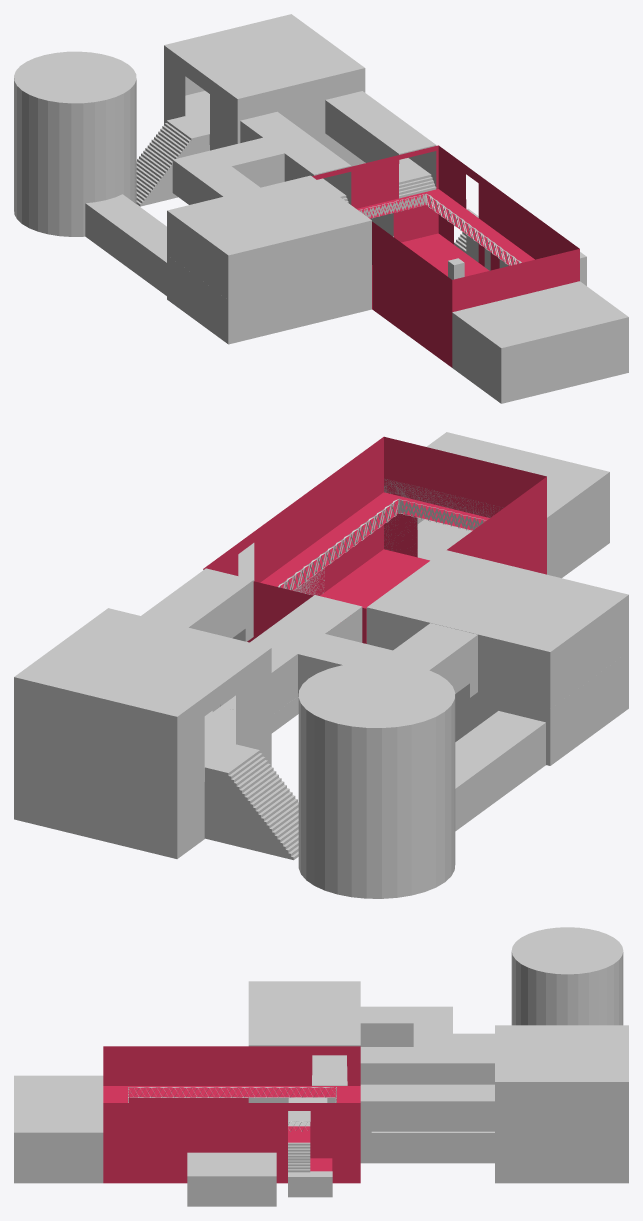
Rendered from scenario.fbx.
3 renders of one model, top to bottom at view 1: azimuth 30°, elevation 25°; view 2: azimuth 150°, elevation 25°; view 3: azimuth 270°, elevation 25°, orthographic. The views are drawn at different scales.
Visible parts, largest first — view 1: Central, Cylinder, Hab.debajo.001, Hall.001, Hab Admin, Hab.debajo, Pasillo.002, Pasillo.001, Pasillo.003, Pasillo.005, Hall, Cube.012 (+1 smaller); view 2: Cylinder, Central, Hall.001, Hab.debajo.001, Hall, Hab Admin, Pasillo.001, Hab.debajo, Pasillo.003, Pasillo.002, Pasillo.004, Pasillo.005 (+3 smaller); view 3: Central, Hall.001, Cylinder, Hab Admin, Hab.debajo.001, Hall, Pasillo.002, Pasillo.003, Hab ini, Pasillo, Pasillo.004, Pasillo.005 (+3 smaller).
Boxes of the visible parts, x1,y1,x2,y2 form: Central: (312,145,579,367); Cylinder: (14,51,136,236); Hab.debajo.001: (167,175,371,299); Hall.001: (164,14,365,146); Hab Admin: (452,281,628,403); Hab.debajo: (167,255,371,344); Pasillo.002: (325,91,436,186); Pasillo.001: (85,194,166,295); Pasillo.003: (240,111,351,204); Pasillo.005: (172,137,284,204); Hall: (164,91,364,166); Cube.012: (359,193,521,265); Cylinder: (298,662,455,898); Central: (203,436,546,643); Hall.001: (14,608,271,787); Hab.debajo.001: (366,550,628,708); Hall: (14,707,271,858); Hab Admin: (384,432,609,578); Pasillo.001: (455,711,545,831); Hab.debajo: (455,652,628,765); Pasillo.003: (212,595,362,715); Pasillo.002: (141,568,253,641); Pasillo.004: (393,623,477,697); Pasillo.005: (297,634,440,696); Central: (103,1046,360,1183); Hall.001: (495,1025,628,1132); Cylinder: (511,927,623,1025); Hab Admin: (14,1075,103,1183); Hab.debajo.001: (248,981,360,1085); Hall: (495,1132,628,1183); Pasillo.002: (360,1084,494,1139); Pasillo.003: (360,1047,494,1084); Hab ini: (187,1152,276,1206); Pasillo: (360,1131,494,1163); Pasillo.004: (360,1006,413,1046); Pasillo.005: (413,1006,452,1046).
Bounding box in the file's own units: 6692 × 2401 × 11003.
